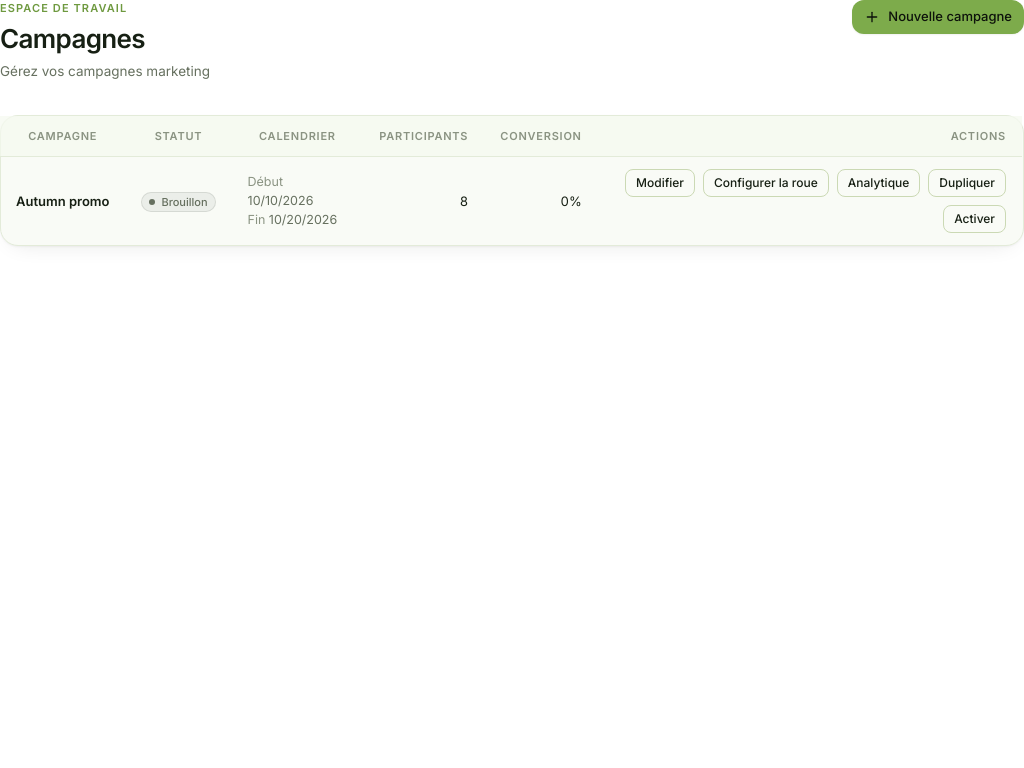
campaign management page › requires confirmation before removing a campaign with participation history
Click the button "Modifier". click: (660, 183)
box: [625,169,695,197]
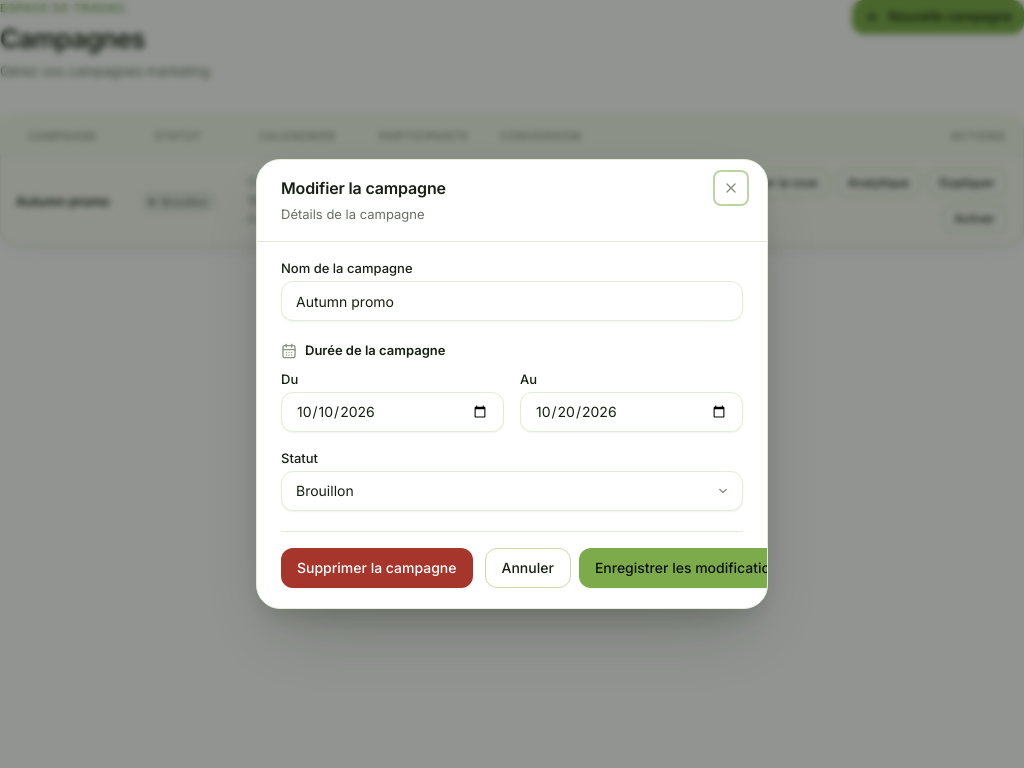
Click the button "Supprimer la campagne". click: (377, 568)
box: [281,548,472,588]
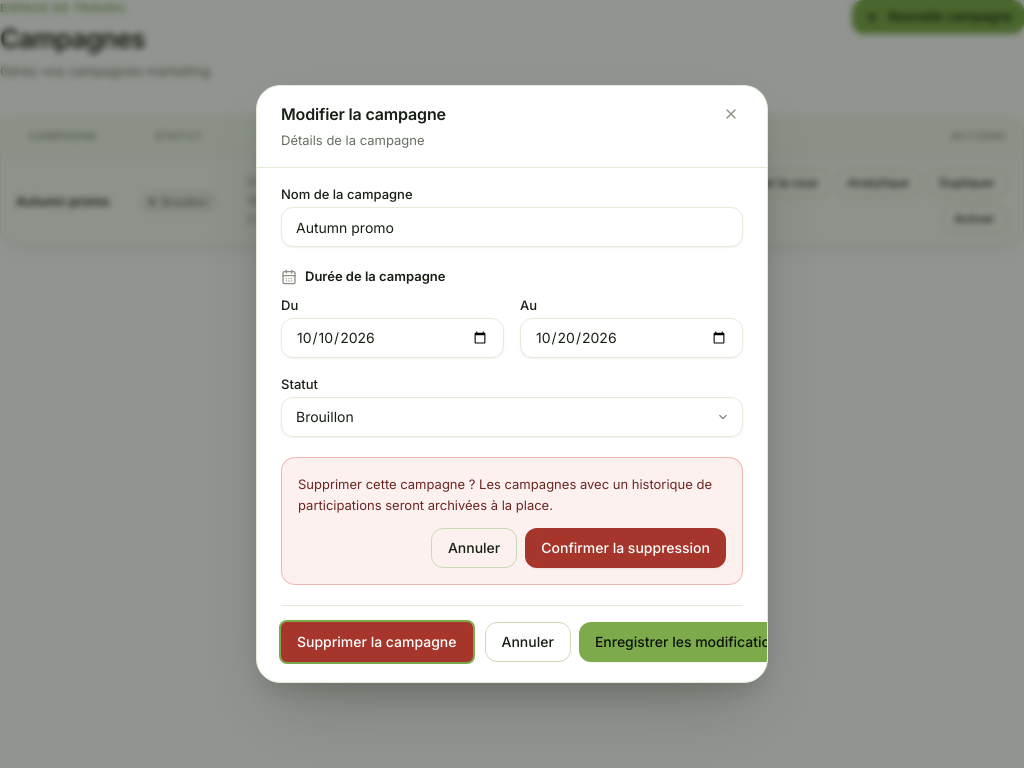
Click the button "Confirmer la suppression". click: (626, 548)
box: [525,528,726,568]
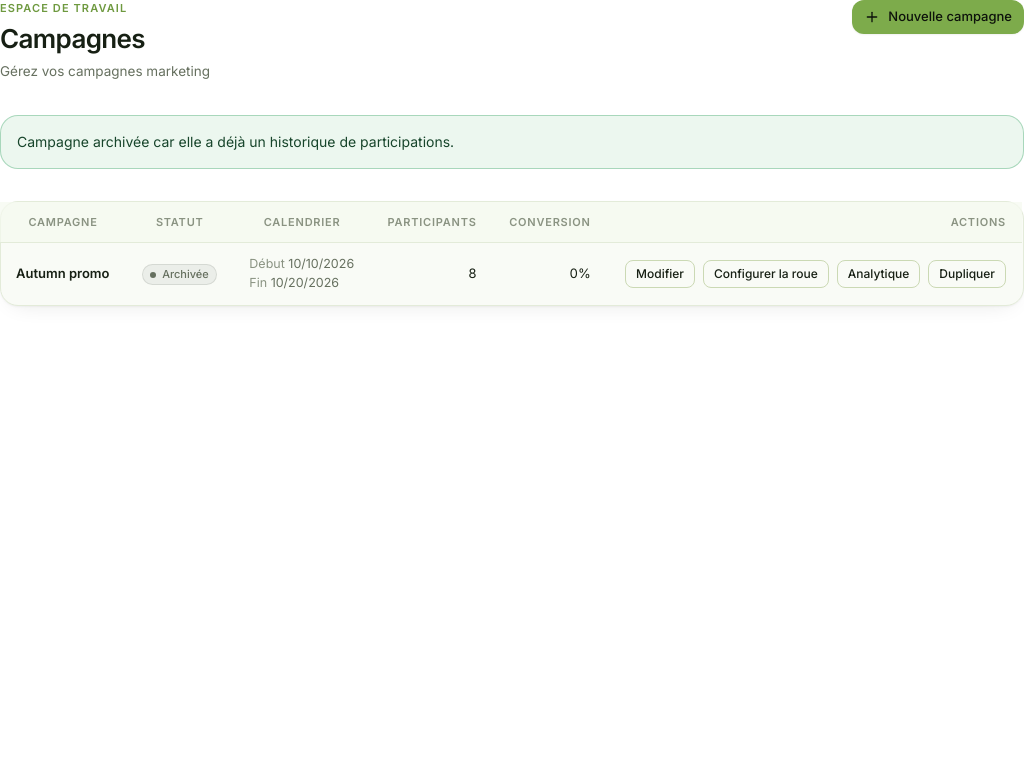
Result: the text "Campagne archivée car elle a déjà un historique de participations." is shown at [0,115,1023,169]
Result: the text "Archivée" is shown at [142,264,217,285]
